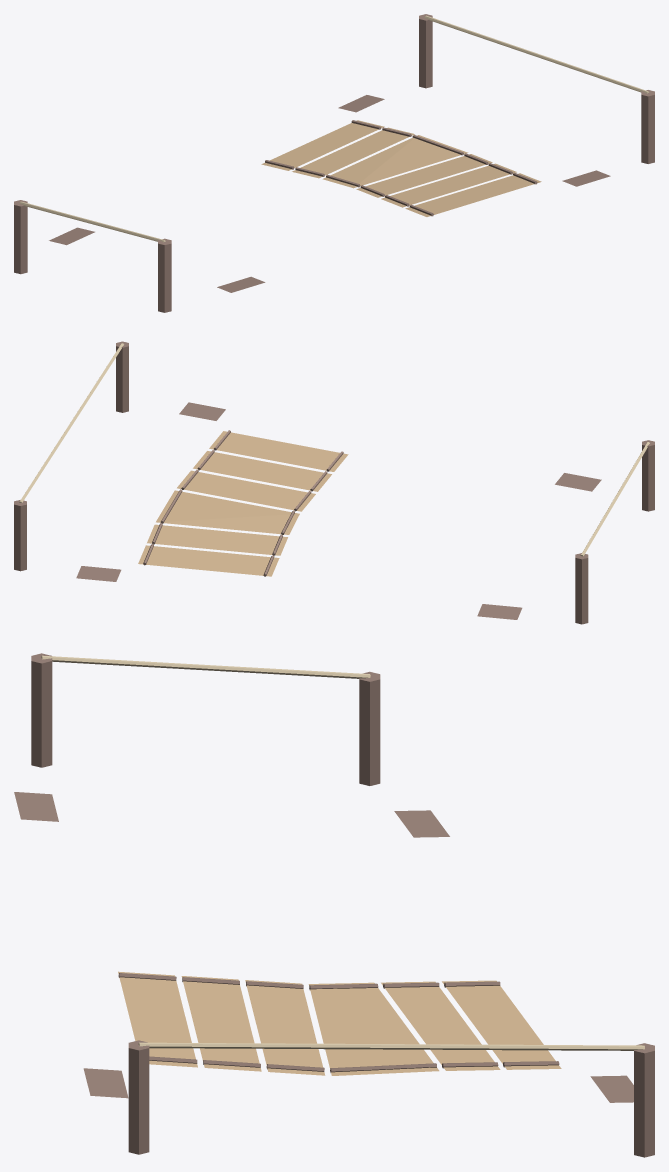
File: puente_roto_1.glb
3 renders of one model, top to bottom at view 1: azimuth 30°, elevation 25°; view 2: azimuth 150°, elevation 25°; view 3: azimuth 270°, elevation 25°, orthographic. The views are drawn at different scales.
Visible parts, largest first — view 1: puente_roto_1; view 2: puente_roto_1; view 3: puente_roto_1.
Boxes of the visible parts, x1=… form: puente_roto_1: x1=14, y1=14, x2=654, y2=312; puente_roto_1: x1=14, y1=341, x2=654, y2=624; puente_roto_1: x1=14, y1=653, x2=654, y2=1157.
Bounding box in the file's own units: 9.18 × 1.54 × 5.85.
